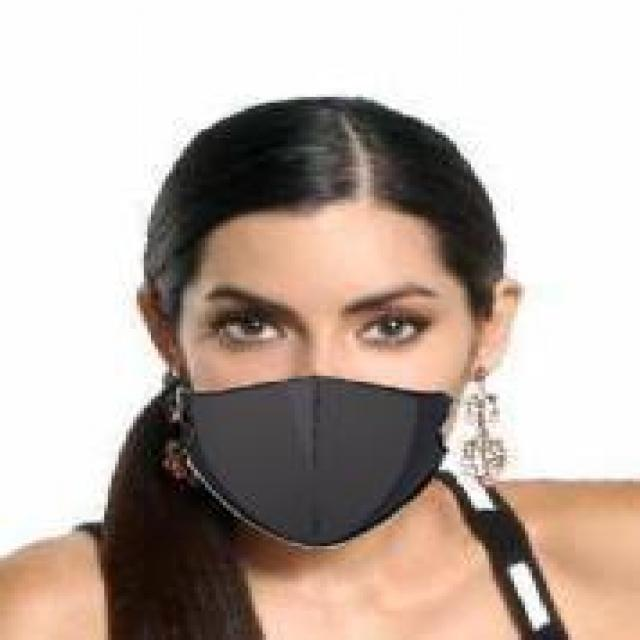mask: (90, 82, 554, 564)
